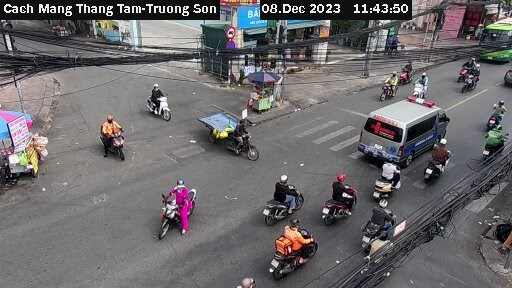bus: (475, 16, 512, 62)
motorbike: (146, 181, 206, 235), (260, 223, 322, 275), (316, 169, 360, 223), (259, 175, 304, 226), (351, 203, 405, 243), (365, 159, 406, 204), (89, 117, 130, 159), (419, 141, 454, 185), (142, 83, 180, 122), (480, 125, 507, 159), (481, 97, 508, 127), (412, 73, 437, 103), (378, 71, 401, 101), (396, 59, 416, 82), (467, 65, 482, 94)
